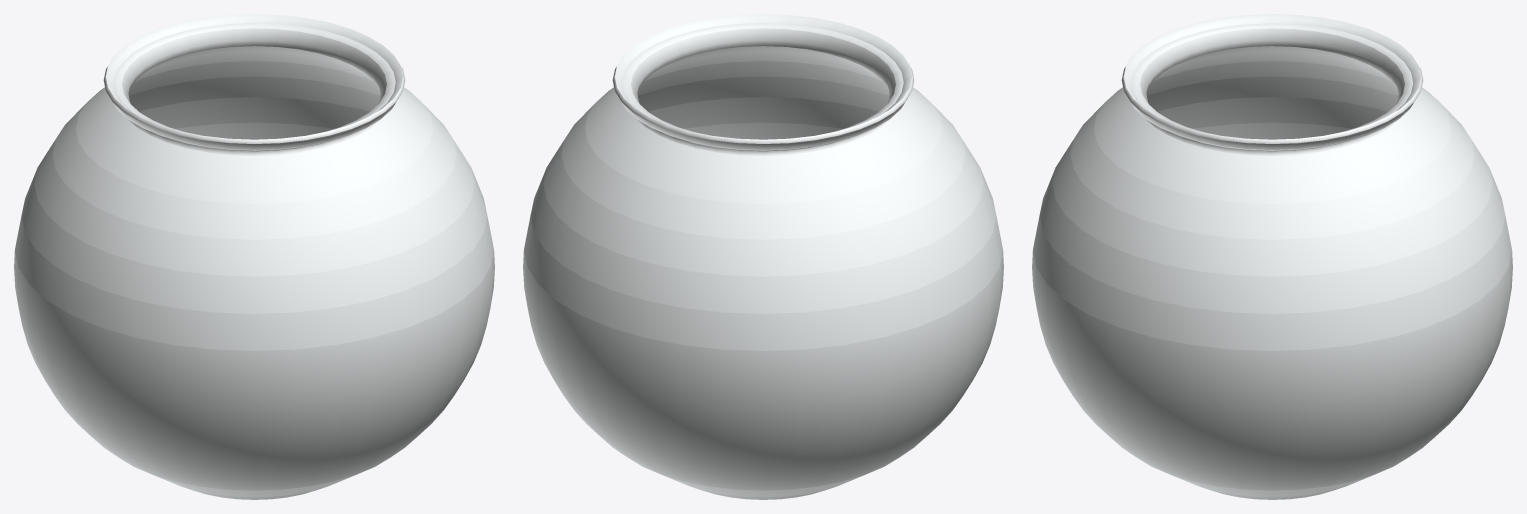
File: Pecera.obj
3 views of the same model, side by side, from view 1: azimuth 30°, elevation 25°; view 2: azimuth 150°, elevation 25°; view 3: azimuth 270°, elevation 25° (orthographic).
Visible parts, largest first — view 1: Pecera:_Fish_bowl_v1_l1__fish_bowl_bowl; view 2: Pecera:_Fish_bowl_v1_l1__fish_bowl_bowl; view 3: Pecera:_Fish_bowl_v1_l1__fish_bowl_bowl.
Boxes of the visible parts, box(x1,y1,x2,y2) form: Pecera:_Fish_bowl_v1_l1__fish_bowl_bowl: box(14, 14, 494, 499); Pecera:_Fish_bowl_v1_l1__fish_bowl_bowl: box(523, 14, 1003, 499); Pecera:_Fish_bowl_v1_l1__fish_bowl_bowl: box(1032, 14, 1512, 499).
Bounding box in the file's own units: 0.3794 × 0.3333 × 0.3794.
1 material, 1 textured.
